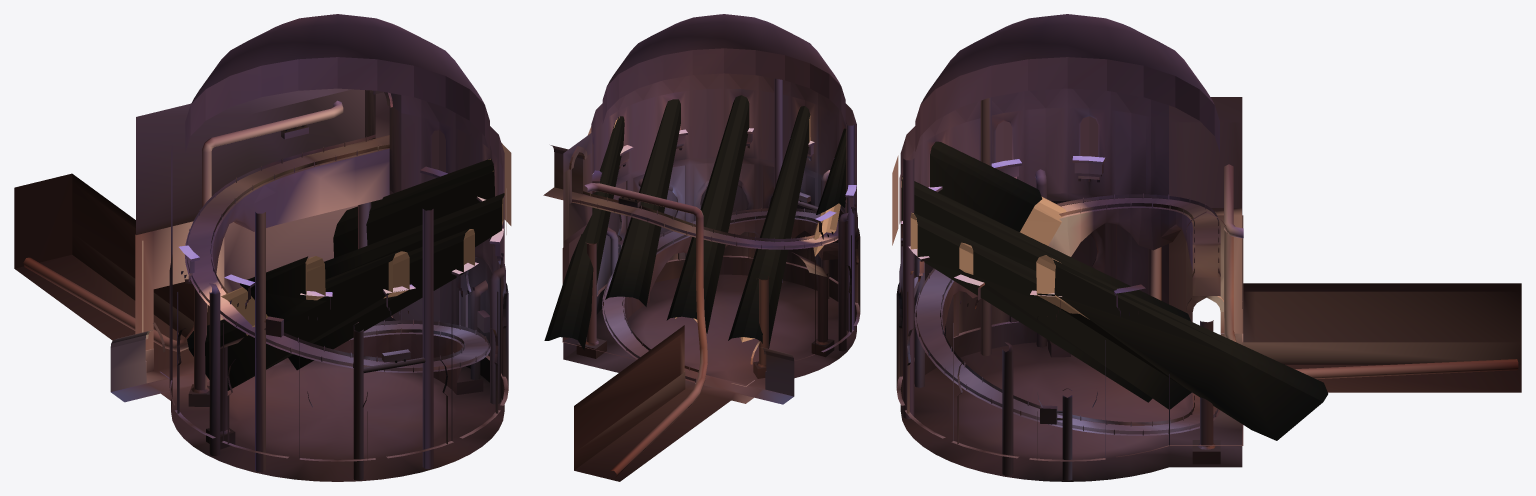
File: 05Spiral.gltf
The picture shows the model from 3 angles, left to right: view 1: azimuth 30°, elevation 25°; view 2: azimuth 150°, elevation 25°; view 3: azimuth 270°, elevation 25°; orthographic projection. The views are drawn at different scales.
Parts seen in each view (by area): view 1: stg030_g07_Mesh_0, stg030_o07_Mesh_16, stg030_o07_Mesh_31, stg030_o07_Mesh_34, stg030_o07_Mesh_7, stg030_o07_Mesh_21, stg030_o07_Mesh_22, stg030_o07_Mesh_36, stg030_o07_Mesh_20, stg030_o07_Mesh_14, stg030_o07_Mesh_4, stg030_o07_Mesh_23 (+20 smaller); view 2: stg030_g07_Mesh_0, stg030_o07_Mesh_16, stg030_o07_Mesh_34, stg030_o07_Mesh_31, stg030_o07_Mesh_7, stg030_o07_Mesh_4, stg030_o07_Mesh_21, stg030_o07_Mesh_11, stg030_o07_Mesh_12, stg030_o07_Mesh_25, stg030_o07_Mesh_22, stg030_o07_Mesh_36 (+18 smaller); view 3: stg030_g07_Mesh_0, stg030_o07_Mesh_16, stg030_o07_Mesh_12, stg030_o07_Mesh_31, stg030_o07_Mesh_34, stg030_o07_Mesh_7, stg030_o07_Mesh_22, stg030_o07_Mesh_21, stg030_o07_Mesh_4, stg030_o07_Mesh_11, stg030_o07_Mesh_36, stg030_o07_Mesh_14 (+14 smaller).
Boxes of the visible parts, left/top/right/bottom form: stg030_g07_Mesh_0: left=187, top=158, right=504, bottom=390; stg030_o07_Mesh_16: left=135, top=89, right=508, bottom=387; stg030_o07_Mesh_31: left=23, top=100, right=504, bottom=480; stg030_o07_Mesh_34: left=14, top=137, right=437, bottom=453; stg030_o07_Mesh_7: left=145, top=57, right=489, bottom=352; stg030_o07_Mesh_21: left=191, top=14, right=484, bottom=103; stg030_o07_Mesh_22: left=171, top=366, right=504, bottom=481; stg030_o07_Mesh_36: left=184, top=155, right=490, bottom=372; stg030_o07_Mesh_20: left=136, top=148, right=504, bottom=365; stg030_o07_Mesh_14: left=169, top=89, right=508, bottom=380; stg030_o07_Mesh_4: left=171, top=90, right=504, bottom=459; stg030_o07_Mesh_23: left=266, top=381, right=408, bottom=441; stg030_g07_Mesh_0: left=544, top=95, right=846, bottom=350; stg030_o07_Mesh_16: left=569, top=88, right=860, bottom=311; stg030_o07_Mesh_34: left=545, top=188, right=803, bottom=481; stg030_o07_Mesh_31: left=584, top=78, right=854, bottom=477; stg030_o07_Mesh_7: left=569, top=48, right=845, bottom=364; stg030_o07_Mesh_4: left=563, top=90, right=856, bottom=370; stg030_o07_Mesh_21: left=607, top=14, right=840, bottom=85; stg030_o07_Mesh_11: left=554, top=170, right=856, bottom=470; stg030_o07_Mesh_12: left=574, top=335, right=679, bottom=452; stg030_o07_Mesh_25: left=563, top=73, right=856, bottom=172; stg030_o07_Mesh_22: left=596, top=274, right=856, bottom=379; stg030_o07_Mesh_36: left=602, top=208, right=838, bottom=382; stg030_g07_Mesh_0: left=901, top=141, right=1328, bottom=440; stg030_o07_Mesh_16: left=896, top=108, right=1242, bottom=387; stg030_o07_Mesh_12: left=1255, top=291, right=1521, bottom=342; stg030_o07_Mesh_31: left=903, top=97, right=1518, bottom=480; stg030_o07_Mesh_34: left=967, top=256, right=1521, bottom=467; stg030_o07_Mesh_7: left=915, top=57, right=1227, bottom=311; stg030_o07_Mesh_22: left=900, top=341, right=1168, bottom=481; stg030_o07_Mesh_21: left=921, top=14, right=1214, bottom=104; stg030_o07_Mesh_4: left=900, top=107, right=1242, bottom=459; stg030_o07_Mesh_11: left=900, top=322, right=1521, bottom=448; stg030_o07_Mesh_36: left=914, top=198, right=1220, bottom=435; stg030_o07_Mesh_14: left=896, top=97, right=1242, bottom=340.
Size of the model in its own units: 50.89 by 59.95 by 90.49.
